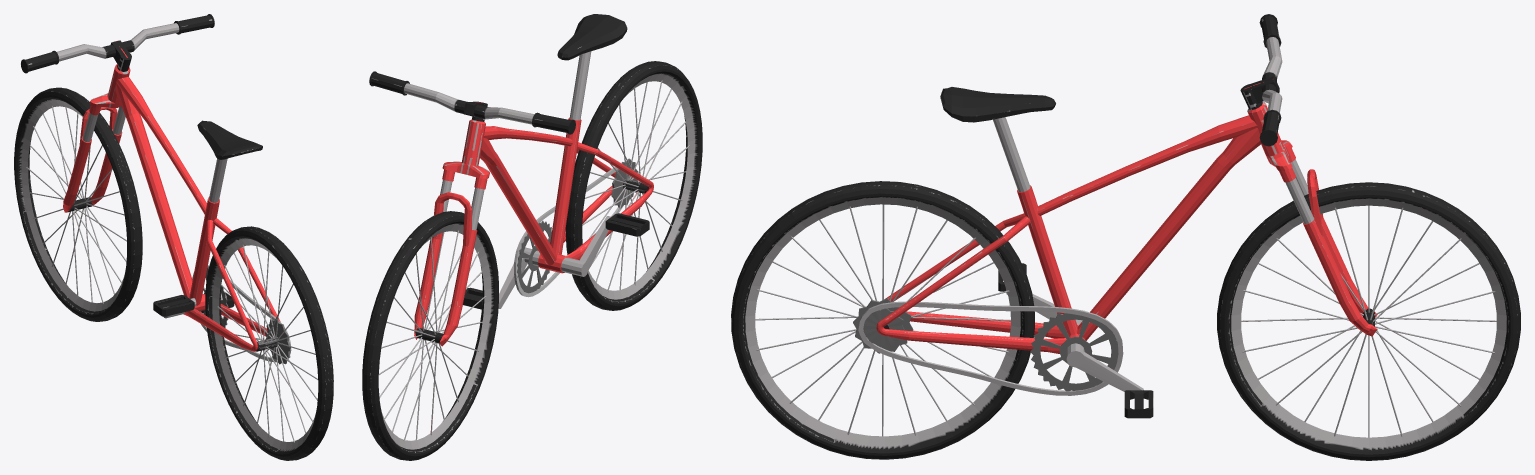
File: Bike5.fbx
The picture shows the model from 3 angles, left to right: view 1: azimuth 30°, elevation 25°; view 2: azimuth 150°, elevation 25°; view 3: azimuth 270°, elevation 25°; orthographic projection. The views are drawn at different scales.
Visible parts, largest first — view 1: Frame, WheelBack, WheelFront, PedalFootLeft; view 2: Frame, WheelFront, WheelBack, PedalShaft, PedalFootLeft; view 3: Frame, WheelBack, WheelFront, PedalShaft, PedalFootRight.
Boxes of the visible parts, box(x1,y1,x2,y2) form: Frame: box(21, 14, 291, 362); WheelBack: box(205, 226, 333, 460); WheelFront: box(14, 87, 142, 321); PedalFootLeft: box(153, 295, 194, 316); Frame: box(369, 14, 653, 346); WheelFront: box(362, 211, 498, 460); WheelBack: box(565, 61, 702, 310); PedalShaft: box(498, 216, 611, 308); PedalFootLeft: box(605, 213, 649, 236); Frame: box(858, 14, 1377, 395); WheelBack: box(731, 181, 1034, 459); WheelFront: box(1217, 182, 1520, 460); PedalShaft: box(1006, 289, 1143, 391); PedalFootRight: box(1124, 390, 1153, 418).
Bounding box in the file's own units: 180 × 280 × 518.
